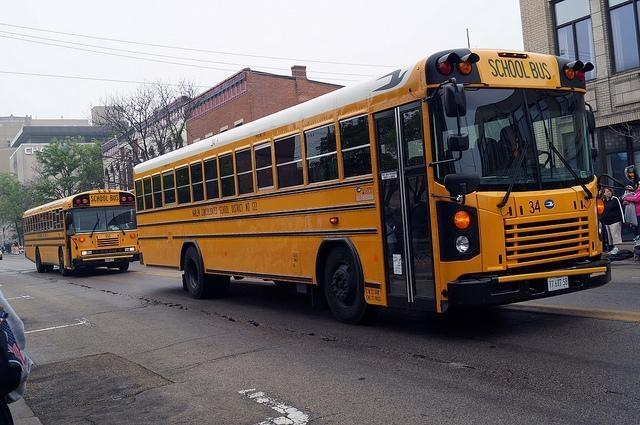bus: (131, 44, 638, 322), (21, 187, 141, 274)
